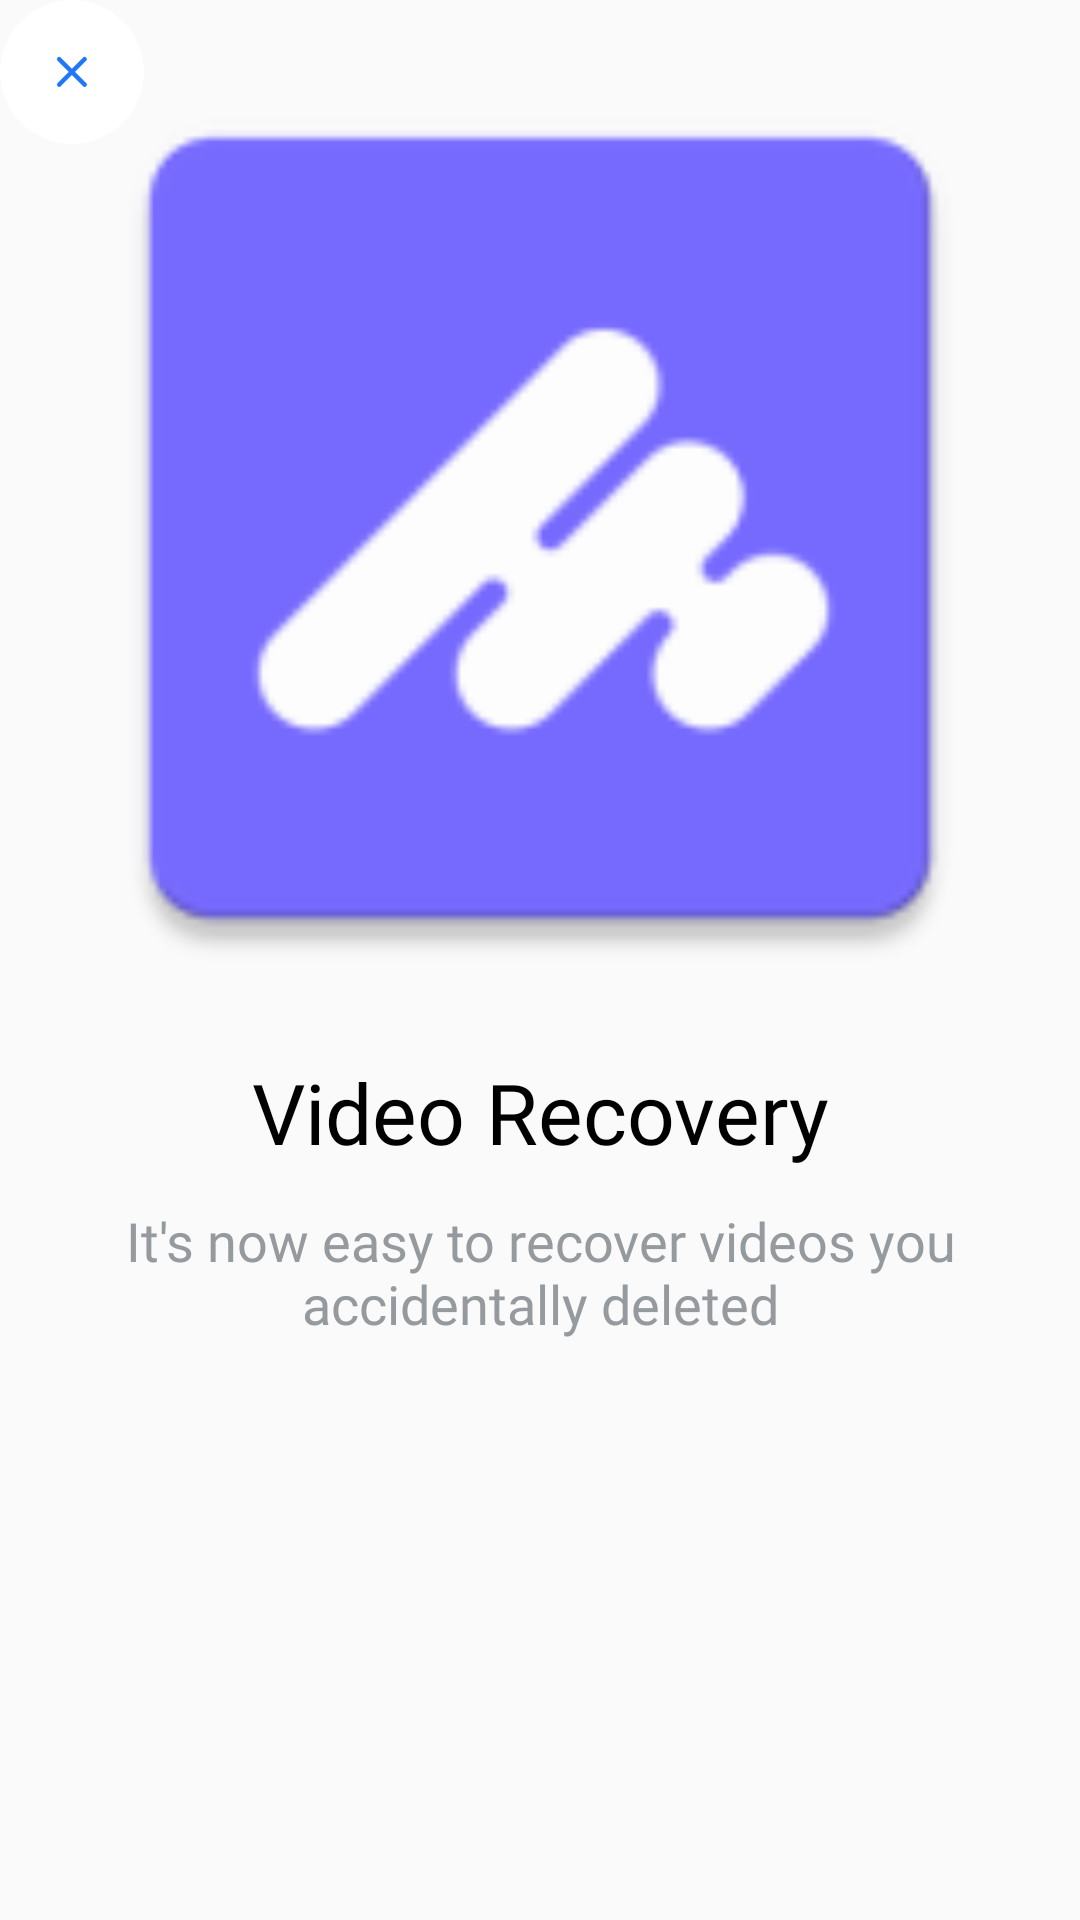

Locate icon controls on the screen. Image size 1080x1920, boxes as (x1, y1, x2, y2).
close: (57, 56, 87, 87)
